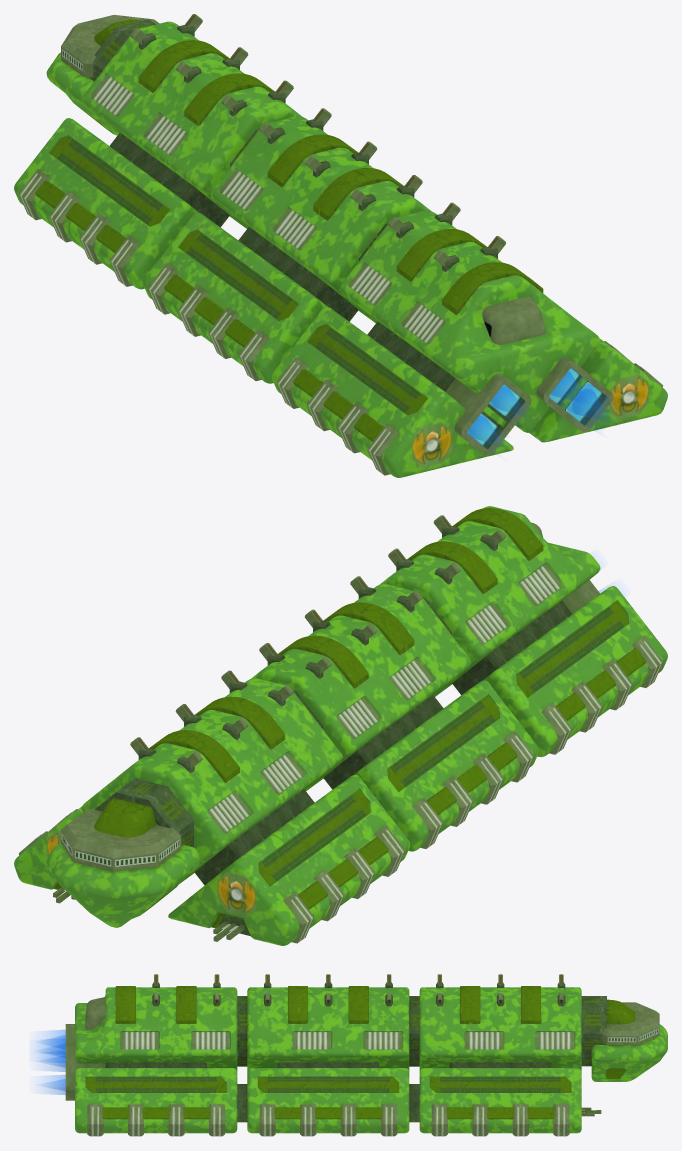
Rendered from holder-hero-rainmaker.glb.
3 renders of one model, top to bottom at view 1: azimuth 30°, elevation 25°; view 2: azimuth 150°, elevation 25°; view 3: azimuth 270°, elevation 25°, orthographic. The views are drawn at different scales.
Visible parts, largest first — view 1: Base, Engines; view 2: Base; view 3: Base, Engines.
Part boxes in pixels (x1,y1,x2,y2): Base: (14,14,667,477); Engines: (467,368,612,452); Base: (14,506,667,945); Base: (65,974,667,1136); Engines: (35,1030,65,1094).
Size of the model in its own units: 10.97 by 5.94 by 32.28.
2 materials, 2 textured.
